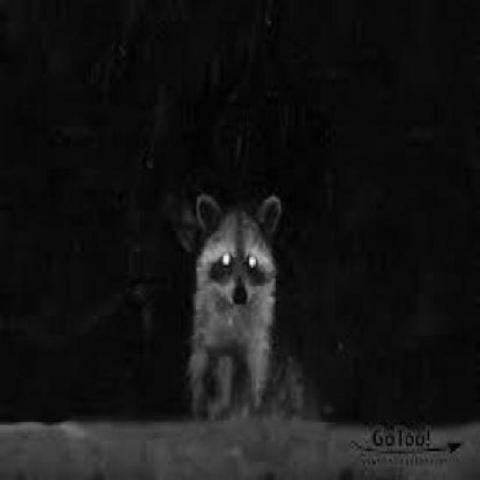small_animal: (184, 190, 284, 420)
